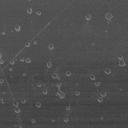corrosion: (117, 59, 127, 69), (103, 12, 114, 21), (14, 24, 22, 34), (24, 7, 33, 15), (103, 67, 111, 76), (59, 91, 66, 100), (47, 43, 54, 51), (89, 73, 96, 81), (11, 99, 19, 106), (51, 72, 59, 79), (25, 57, 32, 64), (24, 40, 31, 47), (100, 90, 107, 97), (74, 90, 81, 97), (35, 101, 41, 109), (46, 61, 52, 68), (85, 14, 92, 20), (35, 10, 42, 16), (64, 71, 71, 77), (41, 89, 48, 95), (9, 59, 15, 65), (65, 105, 71, 111), (30, 119, 36, 125), (63, 117, 69, 123)
